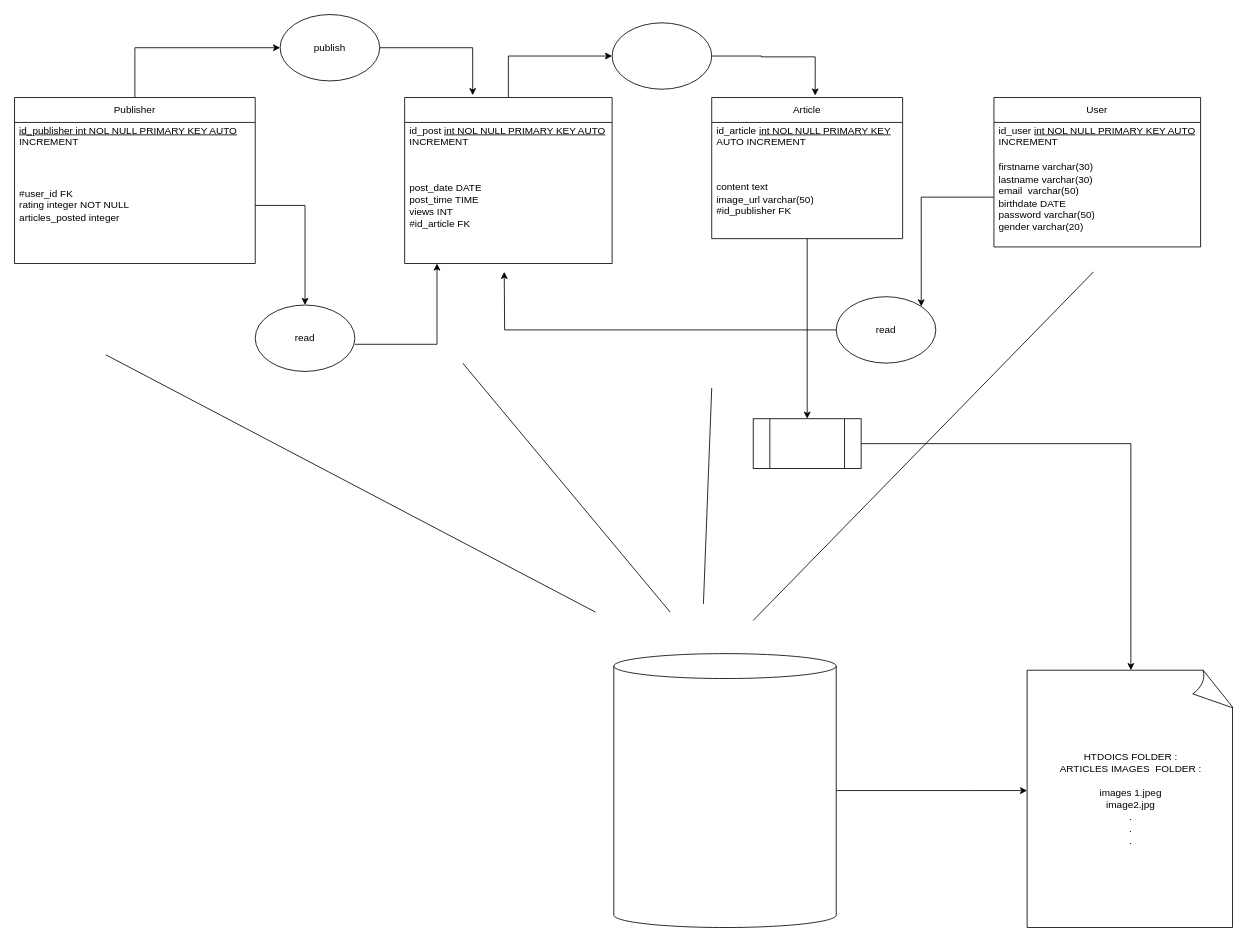
The diagram is 1249 pixels wide and 942 high, and some of its shapes have lost their labels. Each missing label, with the box of its shape:
Containt: (611, 22, 712, 89)
IMPORT IMAGE BY URL: (752, 418, 861, 469)
MySQL: (613, 653, 836, 928)
Posts: (404, 97, 612, 264)
